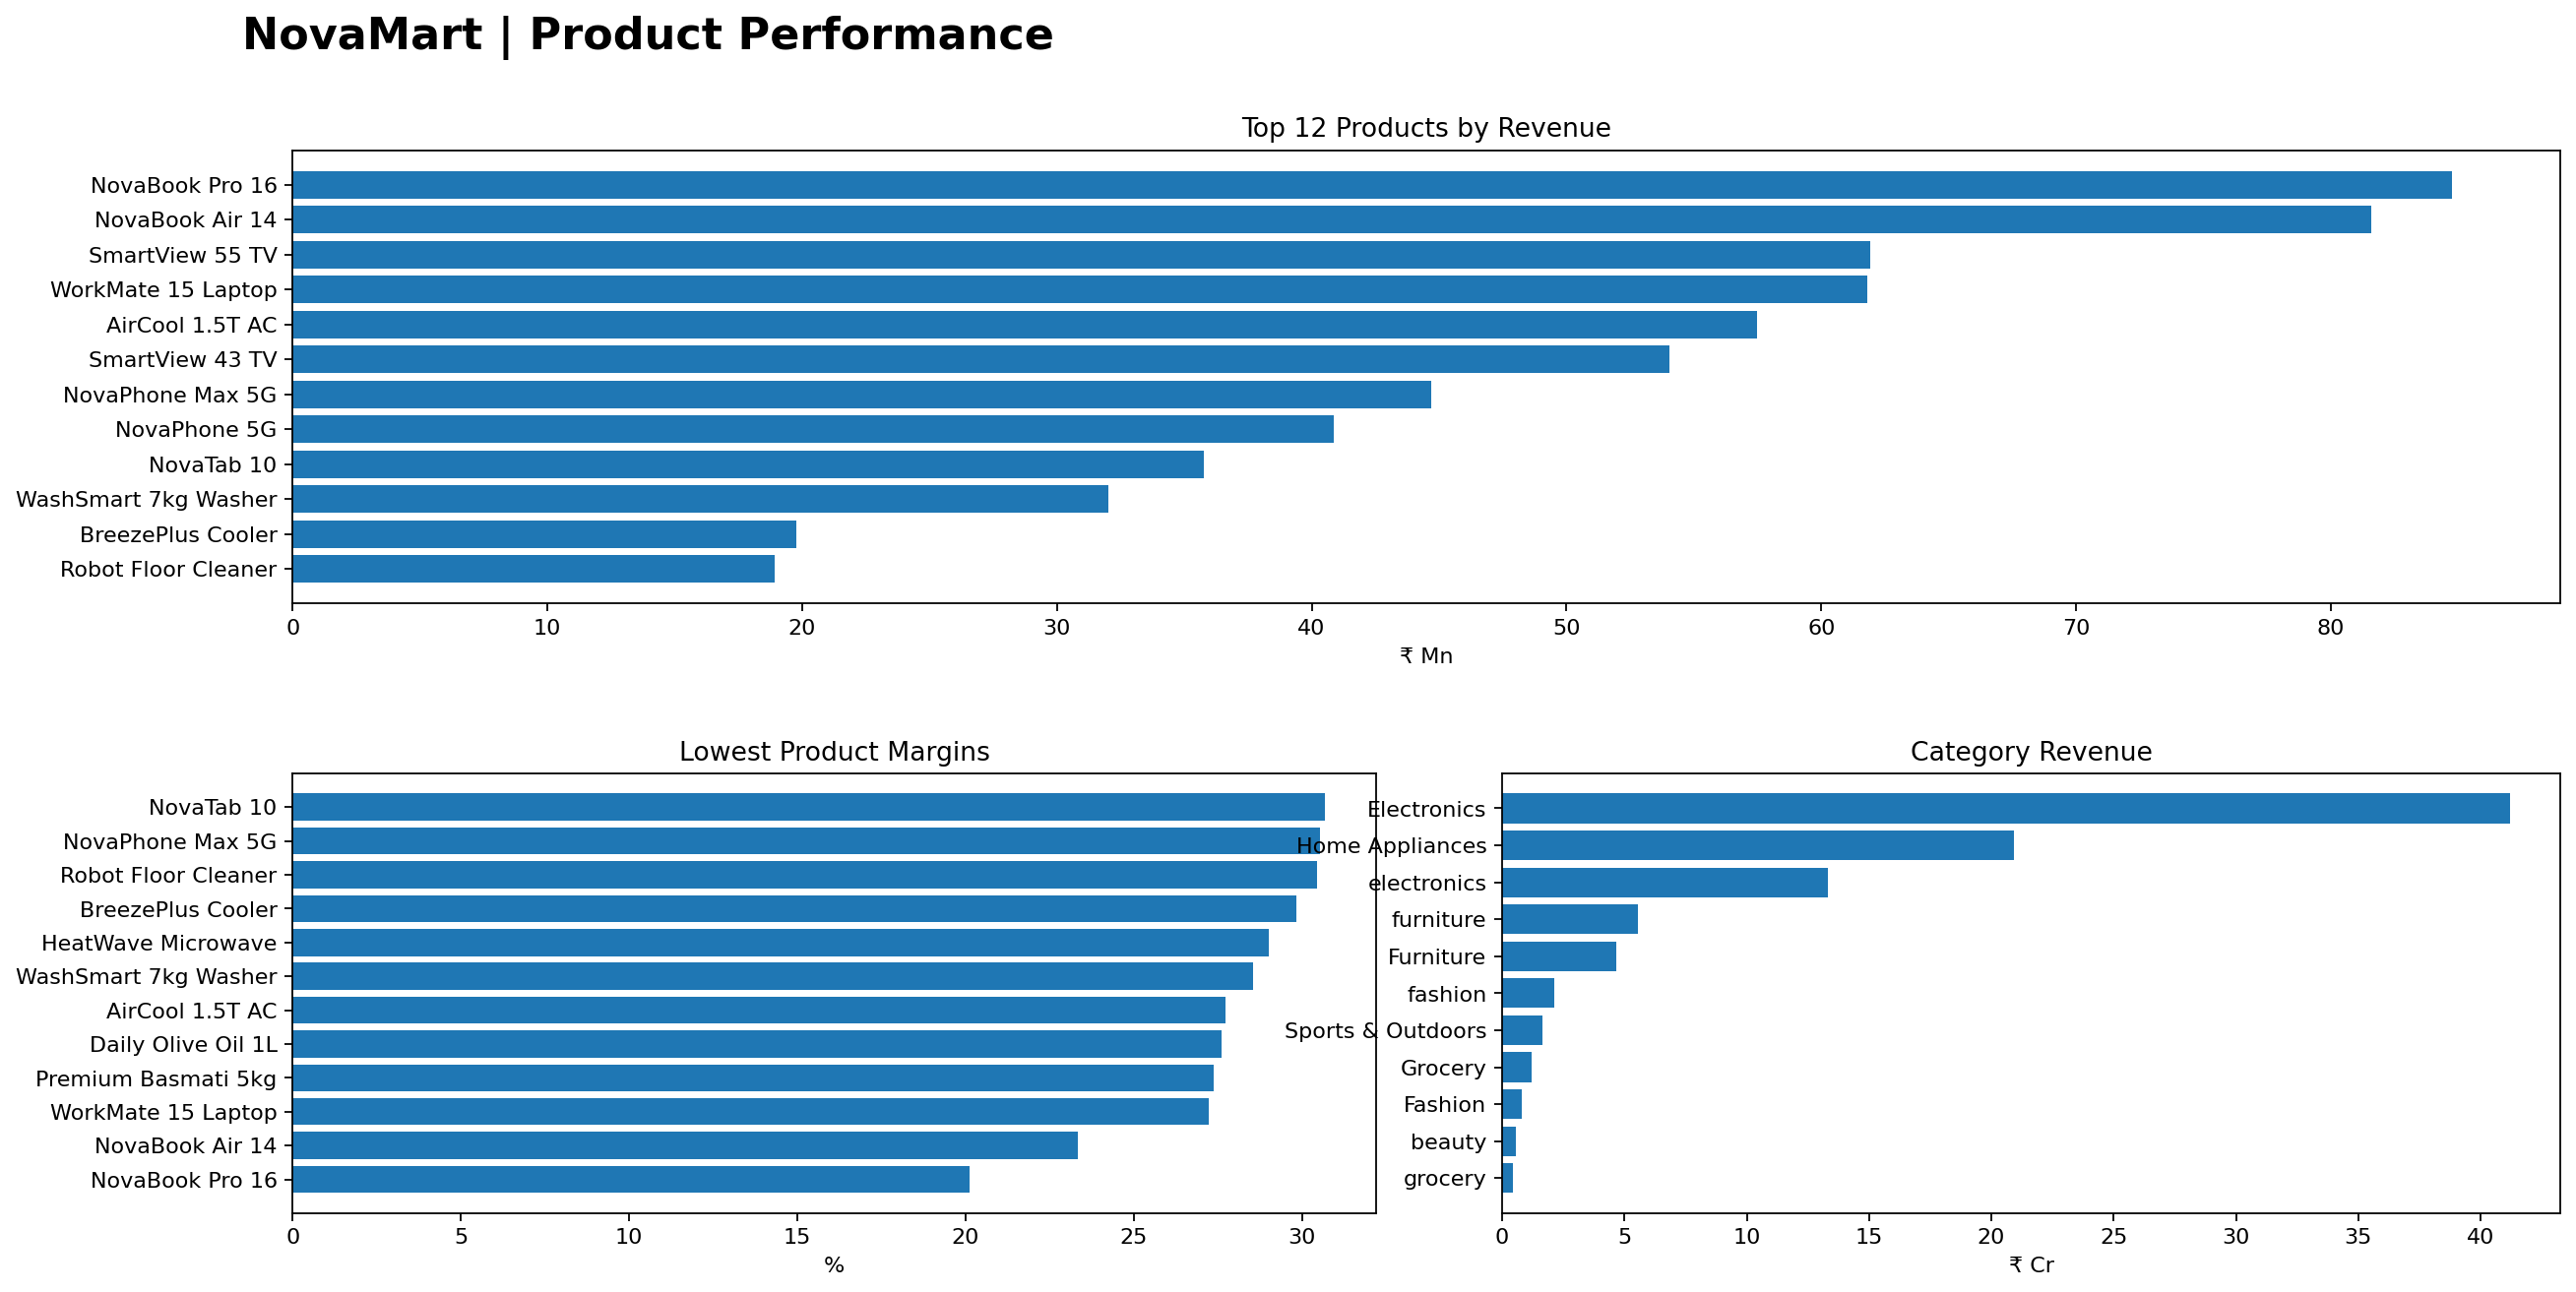

Layout of this report page (visuals, bound fields, positions):
{"tool":"powerbi","page":{"name":"Product Performance ","canvas":[1920,1080],"ordinal":2},"visuals":[{"type":"textbox","box":[10,0,211.8,55.5],"z":0},{"type":"clusteredBarChart","fields":{"Category":["products_clean.Product_Name"],"Y":["analytics_sales.Total Revenue"]},"box":[0,191.7,192.7,150],"z":1000},{"type":"clusteredBarChart","fields":{"Category":["products_clean.Product_Name"],"Y":["analytics_sales.Total Profit"]},"box":[201.7,191.7,193,150],"z":2000},{"type":"clusteredColumnChart","fields":{"Category":["products_clean.Category"],"Y":["analytics_sales.Total Revenue","analytics_sales.Total Profit"]},"box":[0,361.7,403.3,150],"z":3000},{"type":"slicer","fields":{"Values":["products_clean.Product_Name"]},"box":[0,55,193,150],"z":4000}]}

Visuals, with their boxes on the page's 1920x1080 design canvas (x1, y1, x2, y2). These are canvas units, not pixel positions in the 2576x1292 screenshot, which may show the page scaled, cropped or inside an application window:
textbox: bbox=[10, 0, 222, 56]
clusteredBarChart - products_clean.Product_Name x analytics_sales.Total Revenue: bbox=[0, 192, 193, 342]
clusteredBarChart - products_clean.Product_Name x analytics_sales.Total Profit: bbox=[202, 192, 395, 342]
clusteredColumnChart - products_clean.Category x analytics_sales.Total Revenue: bbox=[0, 362, 403, 512]
slicer - products_clean.Product_Name: bbox=[0, 55, 193, 205]
